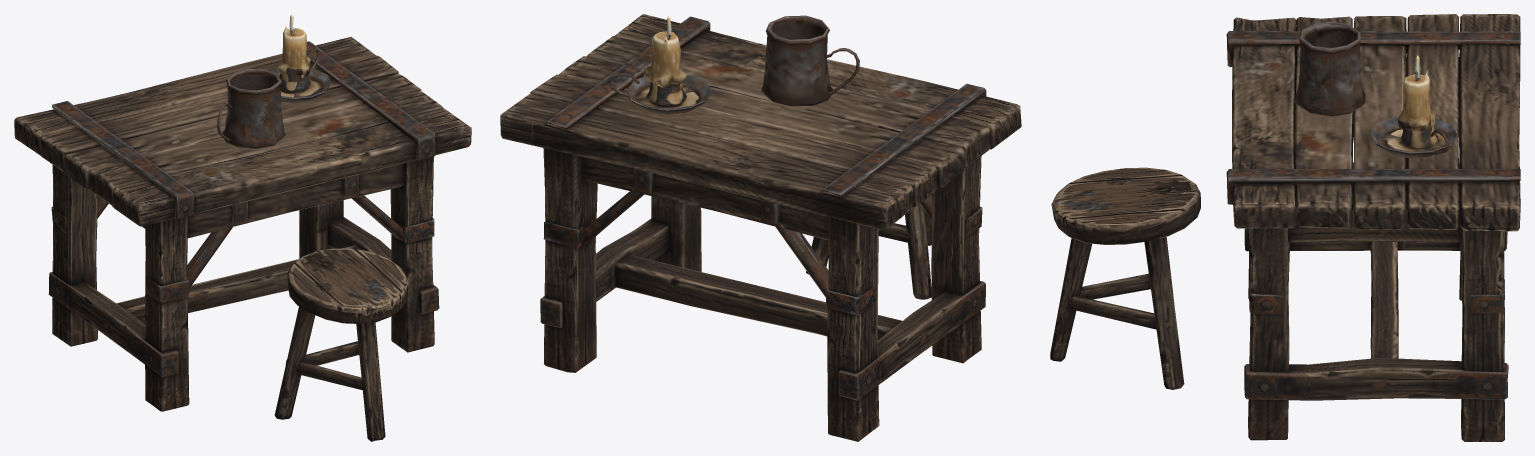
3 views of the same model, side by side, from view 1: azimuth 30°, elevation 25°; view 2: azimuth 150°, elevation 25°; view 3: azimuth 270°, elevation 25° (orthographic). The views are drawn at different scales.
Bounding box in the file's own units: 0.969 × 0.8143 × 1.
1 material, 1 textured.
